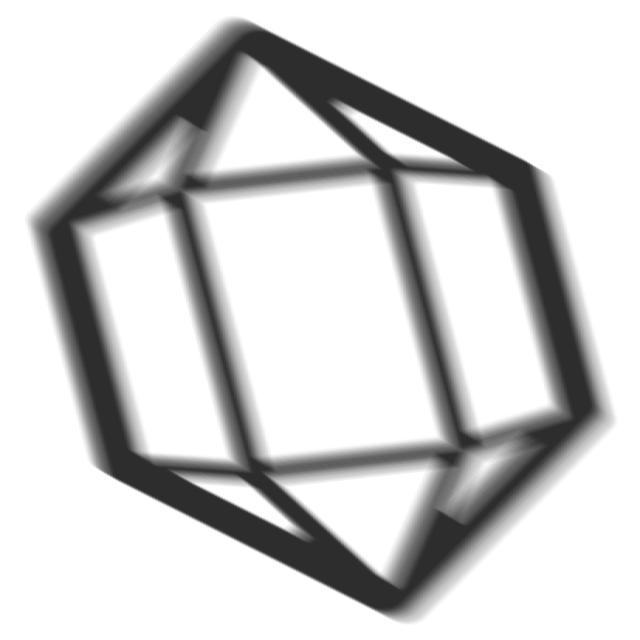crystal: (13, 7, 632, 632)
